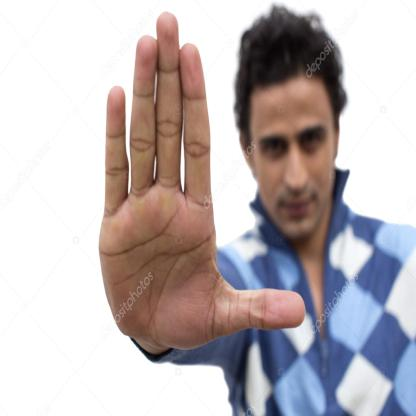Stop: (96, 16, 268, 358)
